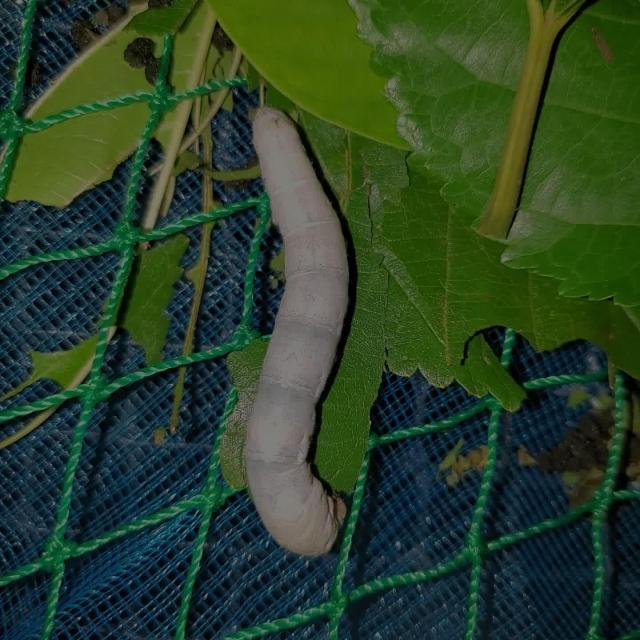Healthy: (232, 102, 370, 558)
